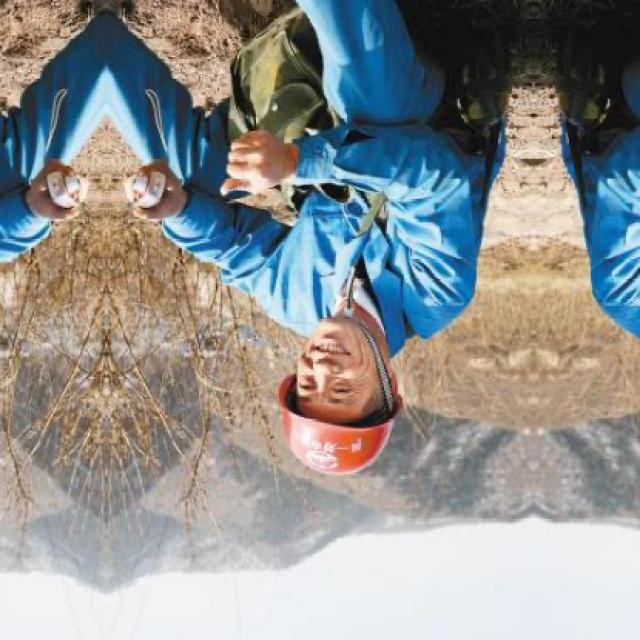con casco: (230, 246, 457, 479)
